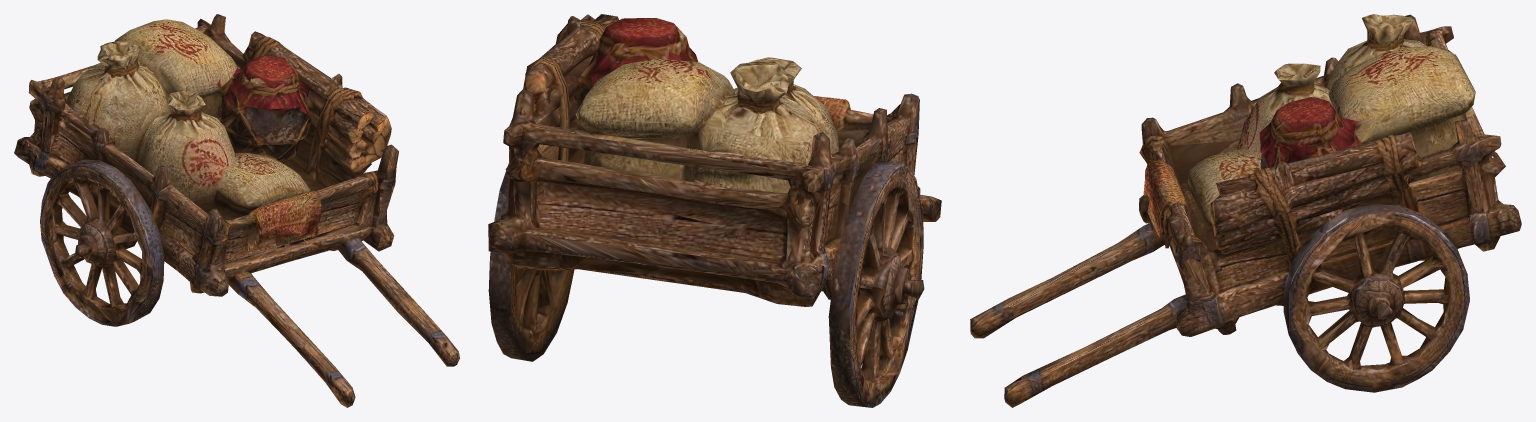
The model's file is carroca.glb.
3 views of the same model, side by side, from view 1: azimuth 30°, elevation 25°; view 2: azimuth 150°, elevation 25°; view 3: azimuth 270°, elevation 25° (orthographic). The views are drawn at different scales.
Visible parts, largest first — view 1: carroca; view 2: carroca; view 3: carroca.
Part boxes in pixels (x1,y1,x2,y2): carroca: (14,14,459,407); carroca: (488,14,941,407); carroca: (970,14,1521,407).
Size of the model in its own units: 1.9 by 1.6 by 2.77.
Materials: 1 (1 with a texture image).
